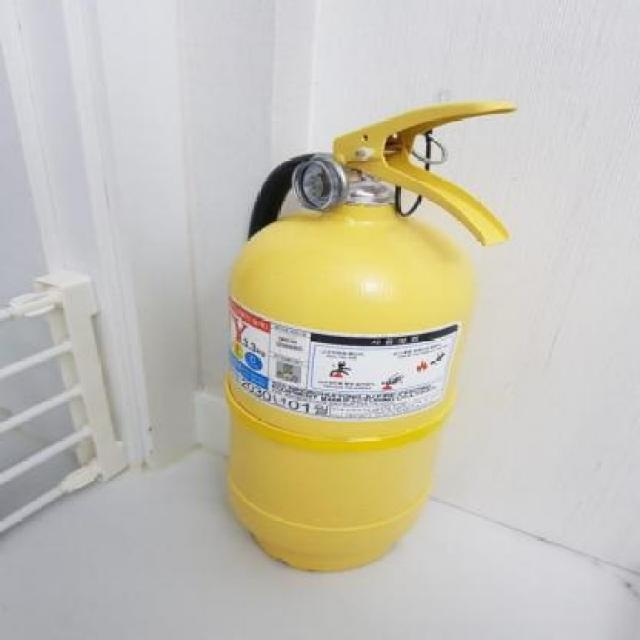fire extinguisher: (226, 99, 519, 573)
